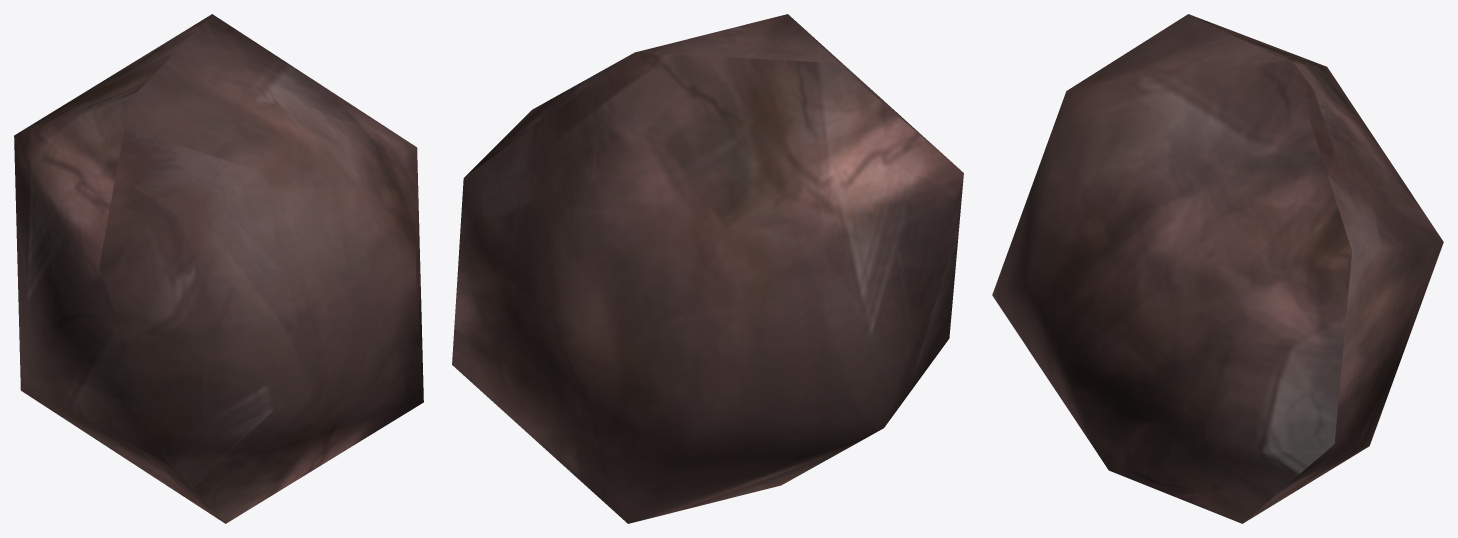
File: boulder.FBX
The picture shows the model from 3 angles, left to right: view 1: azimuth 30°, elevation 25°; view 2: azimuth 150°, elevation 25°; view 3: azimuth 270°, elevation 25°; orthographic projection. The views are drawn at different scales.
Parts seen in each view (by area): view 1: Box002; view 2: Box002; view 3: Box002.
Boxes of the visible parts, bbox=[...] form: Box002: bbox=[14, 14, 423, 523]; Box002: bbox=[452, 14, 963, 523]; Box002: bbox=[992, 14, 1443, 523].
Bounding box in the file's own units: 13.13 × 14.3 × 15.3.
